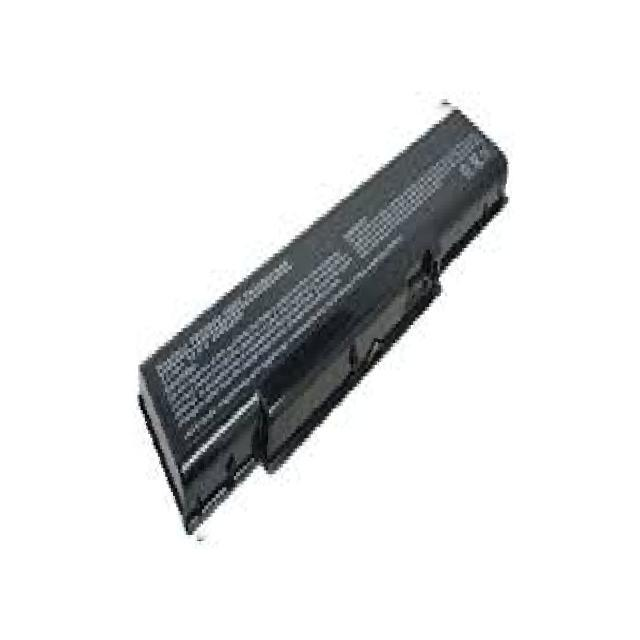Battery: (86, 87, 588, 539)
